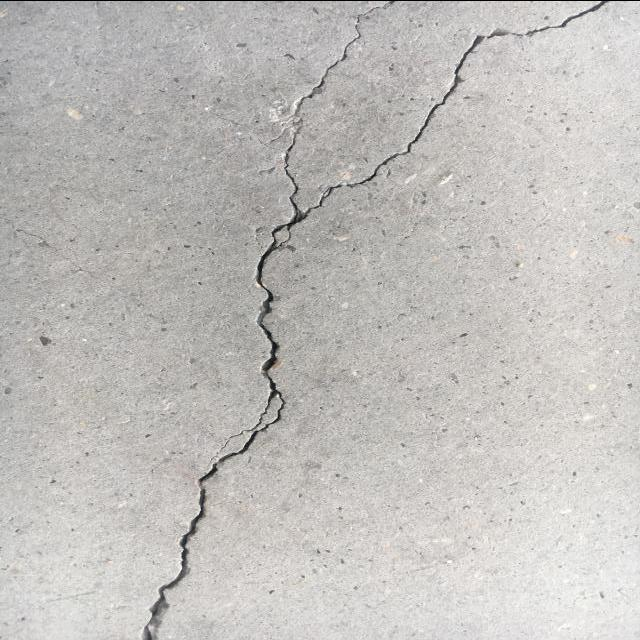SurfaceCrack: (125, 0, 368, 640), (289, 0, 640, 243)
